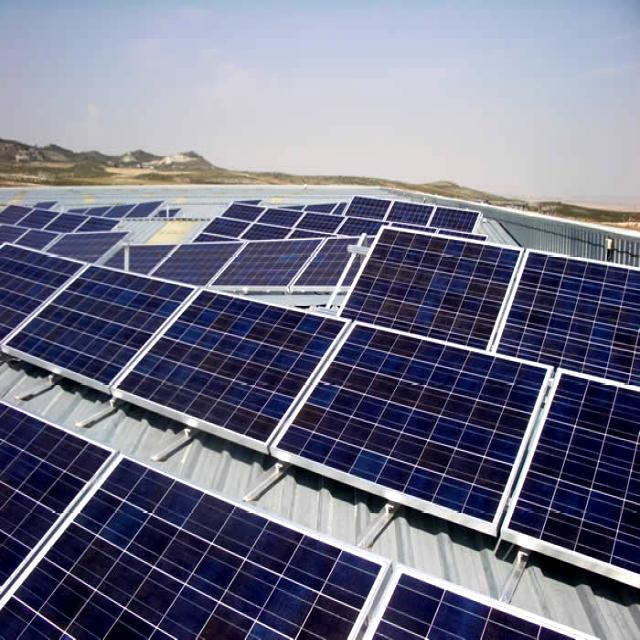crack: (0, 412, 404, 640), (249, 294, 583, 564), (101, 276, 356, 480), (521, 351, 640, 640), (348, 204, 530, 360)
